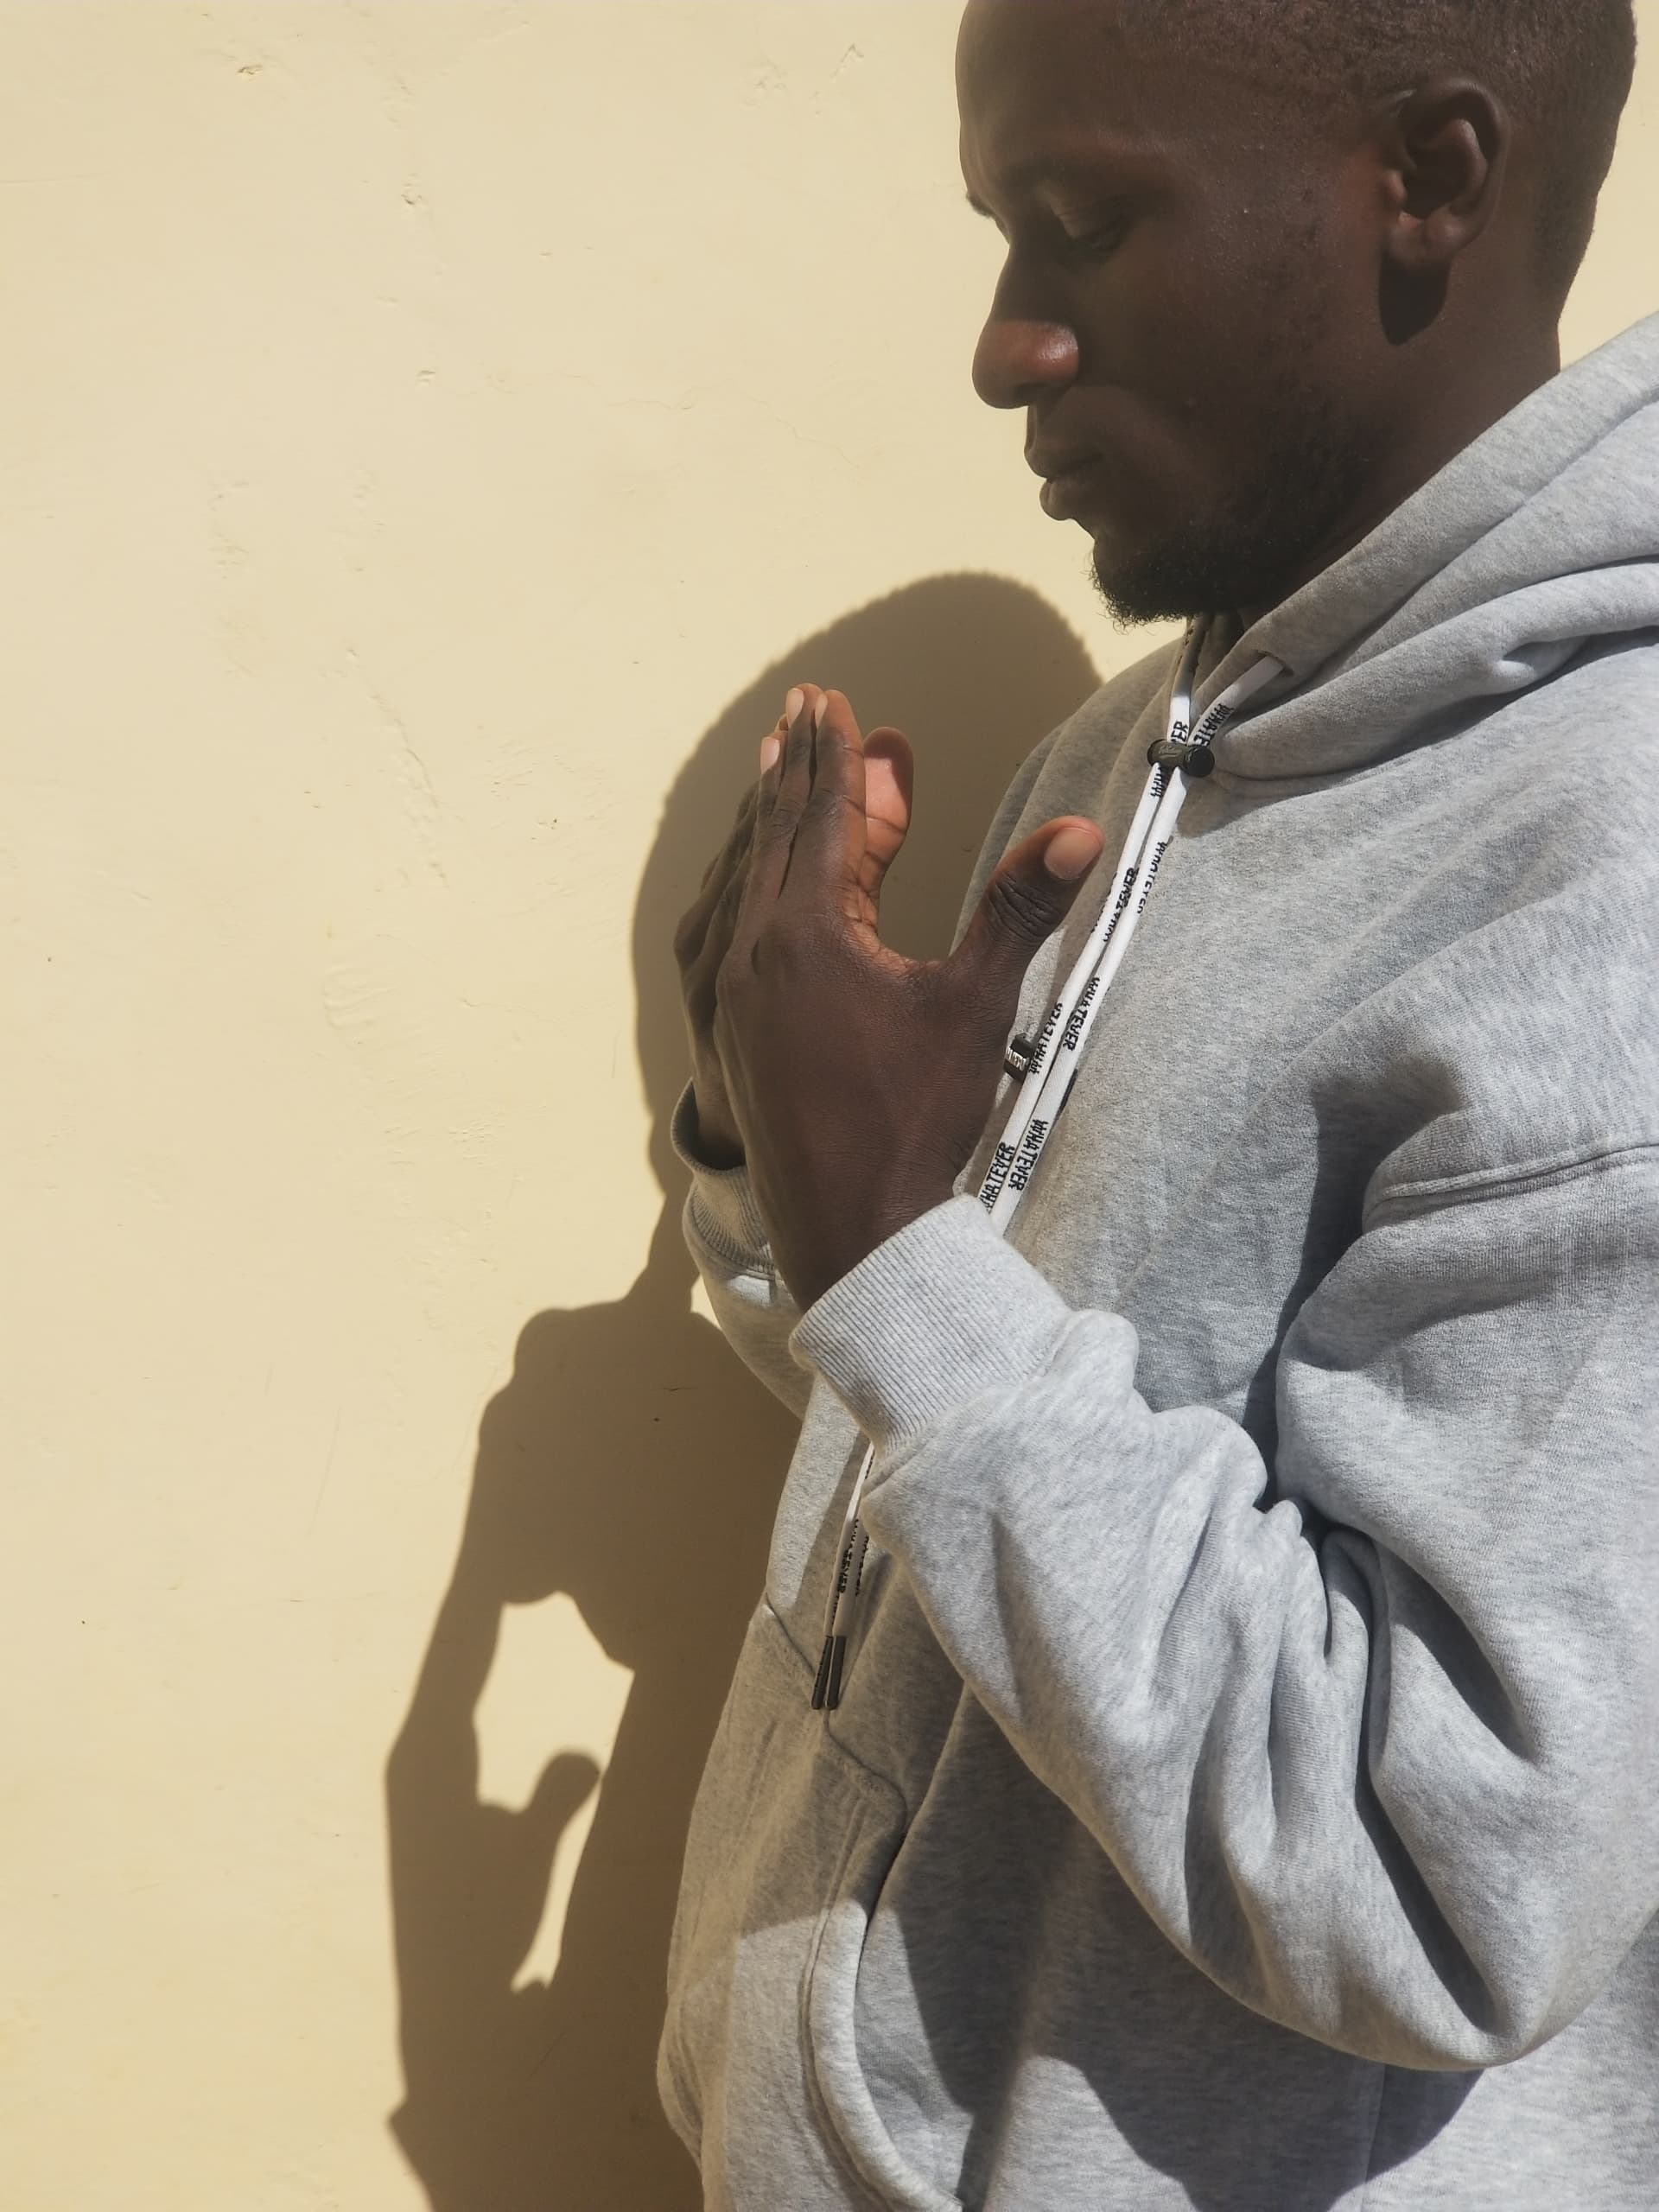thankyou: (495, 618, 1162, 1420)
